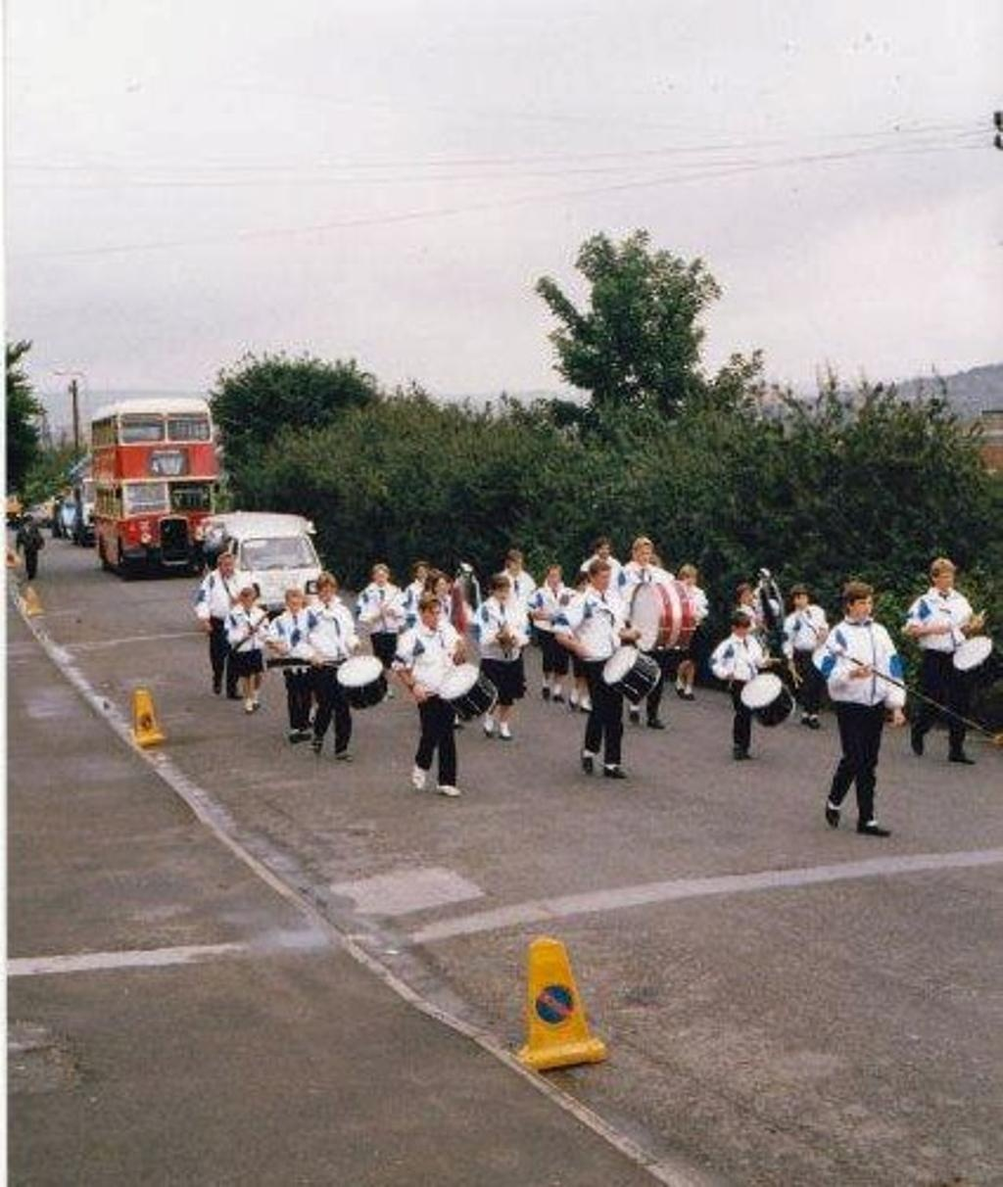human_face: (852, 595, 872, 617), (424, 606, 440, 626), (935, 570, 952, 588), (594, 570, 609, 589), (636, 546, 651, 563), (320, 581, 334, 598), (792, 591, 807, 606), (682, 571, 695, 586), (495, 585, 508, 600), (288, 597, 301, 611), (220, 558, 233, 572), (375, 570, 387, 585), (549, 571, 560, 587), (433, 578, 444, 593), (740, 590, 752, 603), (598, 543, 610, 556), (736, 622, 747, 635), (242, 594, 253, 607), (510, 560, 521, 572), (418, 566, 428, 576), (26, 519, 32, 525)
